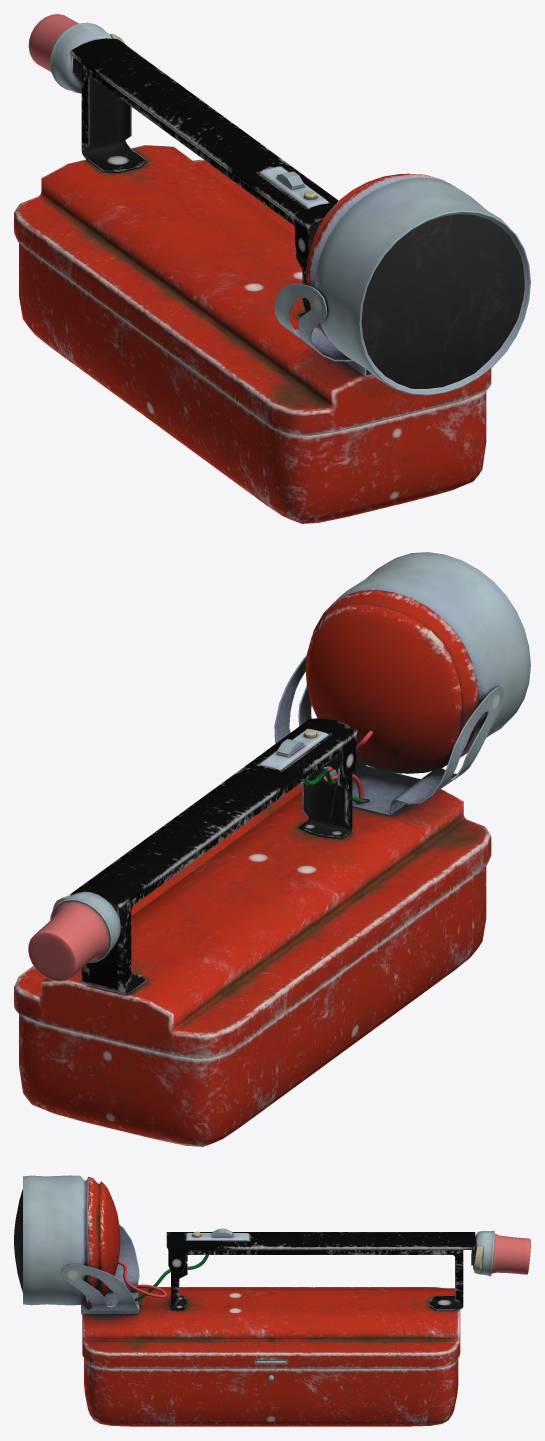
File: torch.gltf
3 renders of one model, top to bottom at view 1: azimuth 30°, elevation 25°; view 2: azimuth 150°, elevation 25°; view 3: azimuth 270°, elevation 25°, orthographic. The views are drawn at different scales.
Parts seen in each view (by area): view 1: vintage_flashlight; view 2: vintage_flashlight; view 3: vintage_flashlight.
Part boxes in pixels (x1,y1,x2,y2): vintage_flashlight: [14, 14, 530, 523]; vintage_flashlight: [14, 552, 530, 1146]; vintage_flashlight: [14, 1175, 530, 1426].
Bounding box in the file's own units: 0.0959 × 0.1443 × 0.3055.
Materials: 2 (2 with a texture image).
